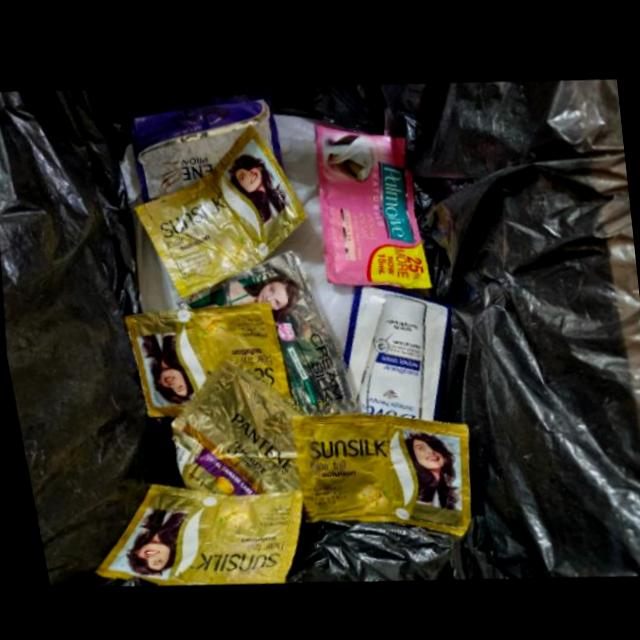goi_nhua_nho: (131, 122, 302, 294), (172, 248, 349, 413), (284, 412, 462, 535), (85, 480, 295, 581), (312, 121, 427, 288), (119, 298, 284, 414), (162, 358, 291, 492), (129, 96, 282, 195), (337, 283, 446, 419)
